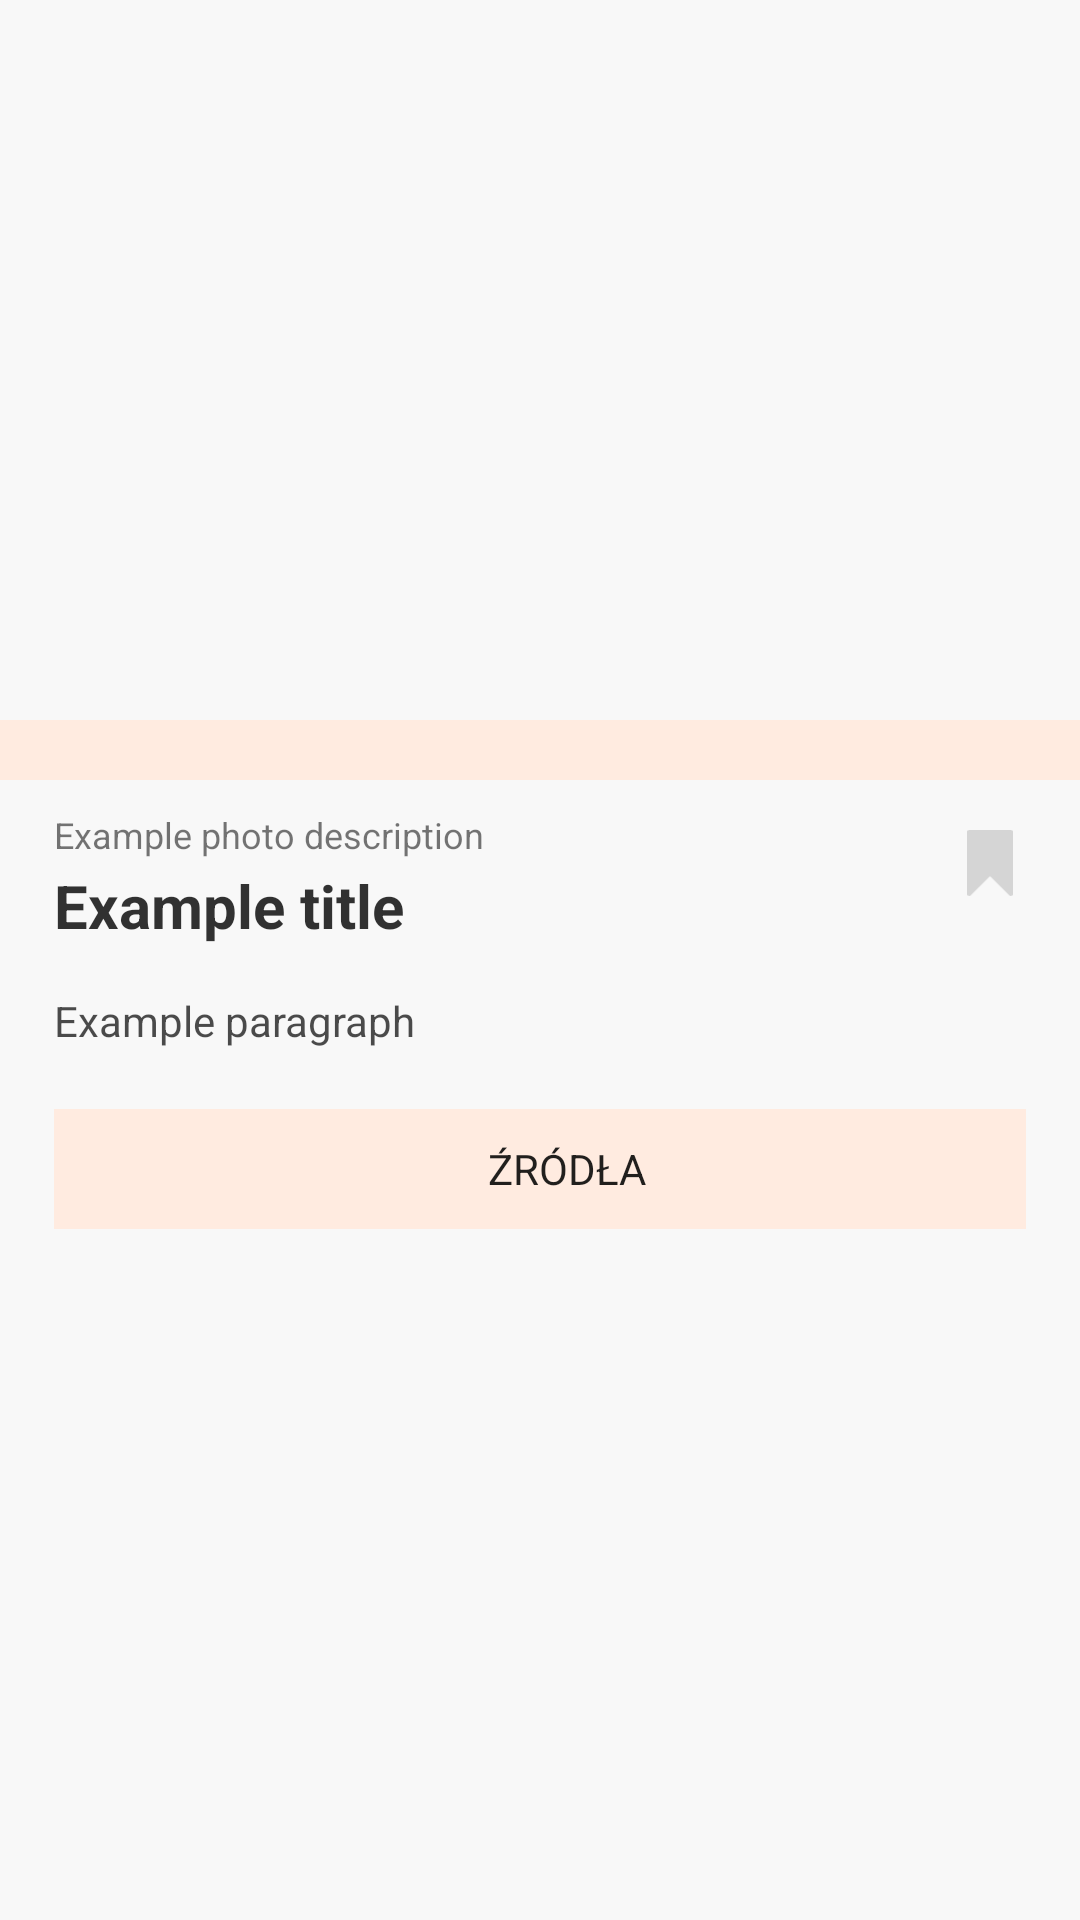

Named icons in this screenshot (1080 × 1920) and their centers, (x,y):
bookmark: (990,863)
